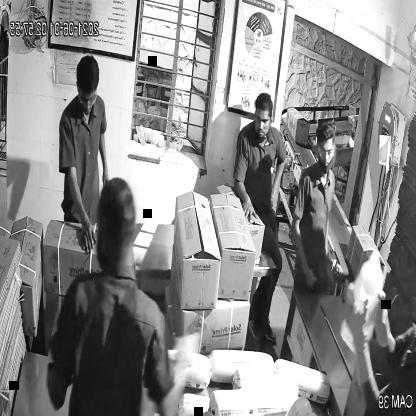goggles: (74, 86, 100, 111), (316, 140, 338, 163)
